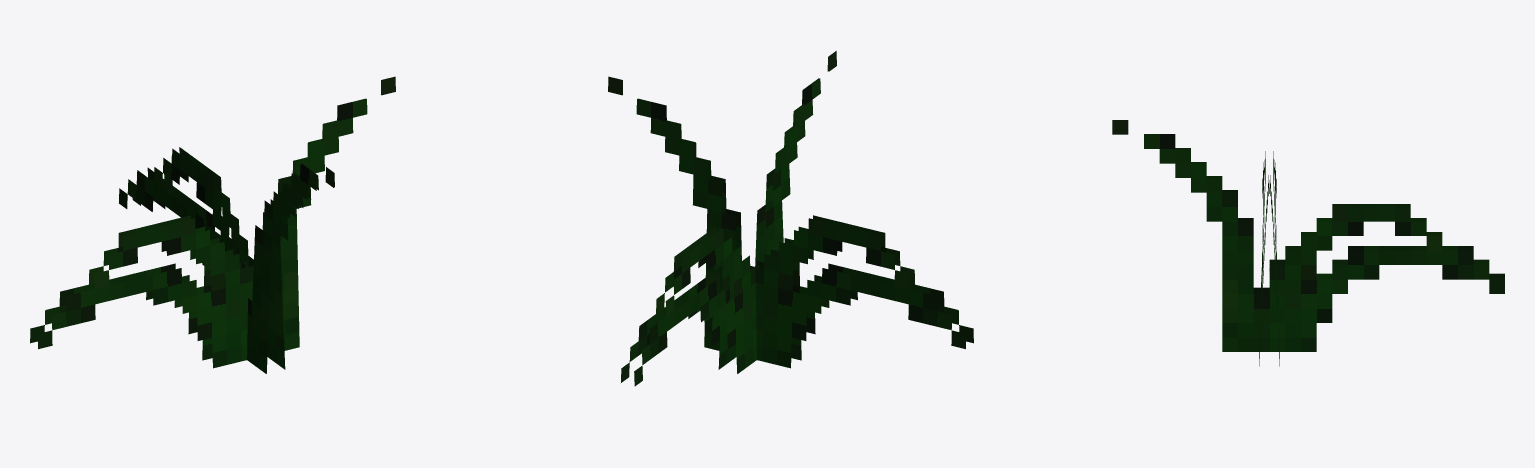
Rendered from grass02.glb.
The picture shows the model from 3 angles, left to right: view 1: azimuth 30°, elevation 25°; view 2: azimuth 150°, elevation 25°; view 3: azimuth 270°, elevation 25°; orthographic projection. The views are drawn at different scales.
Visible parts, largest first — view 1: grass2; view 2: grass2; view 3: grass2.
Boxes of the visible parts, box(x1,y1,x2,y2) form: grass2: box(30, 76, 395, 373); grass2: box(608, 51, 973, 386); grass2: box(1112, 120, 1504, 366).
Size of the model in its own units: 0.5 by 0.25 by 0.5.
Materials: 1 (1 with a texture image).
